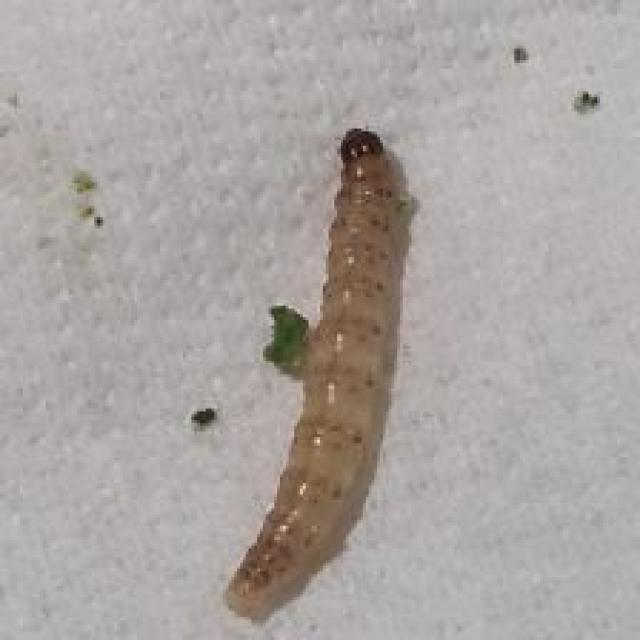white mucus: (180, 122, 450, 626)
